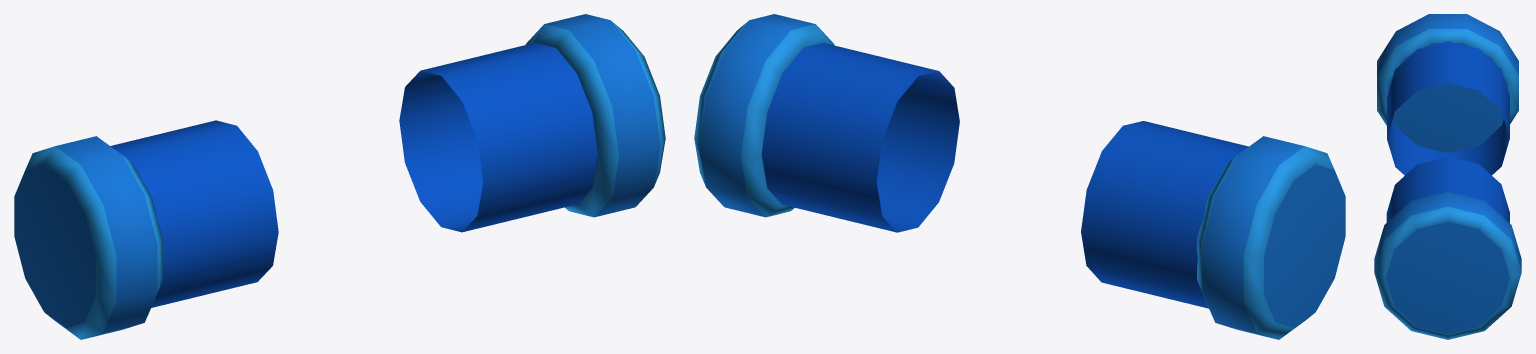
File: cannon_001.fbx
3 views of the same model, side by side, from view 1: azimuth 30°, elevation 25°; view 2: azimuth 150°, elevation 25°; view 3: azimuth 270°, elevation 25° (orthographic). The views are drawn at different scales.
Visible parts, largest first — view 1: cannon_001; view 2: cannon_001; view 3: cannon_001.
Boxes of the visible parts, <box> form: cannon_001: <box>14,14,665,339</box>; cannon_001: <box>694,14,1345,339</box>; cannon_001: <box>1374,14,1521,339</box>.
Bounding box in the file's own units: 375 × 114 × 114.
